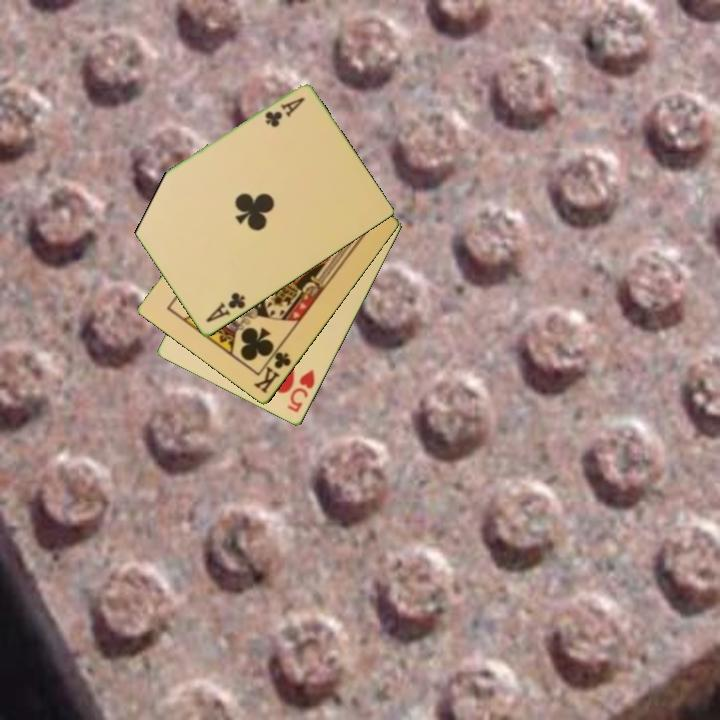5h: (284, 366, 318, 416)
Ac: (261, 94, 308, 131), (202, 289, 248, 326)
Kc: (250, 342, 294, 397)
